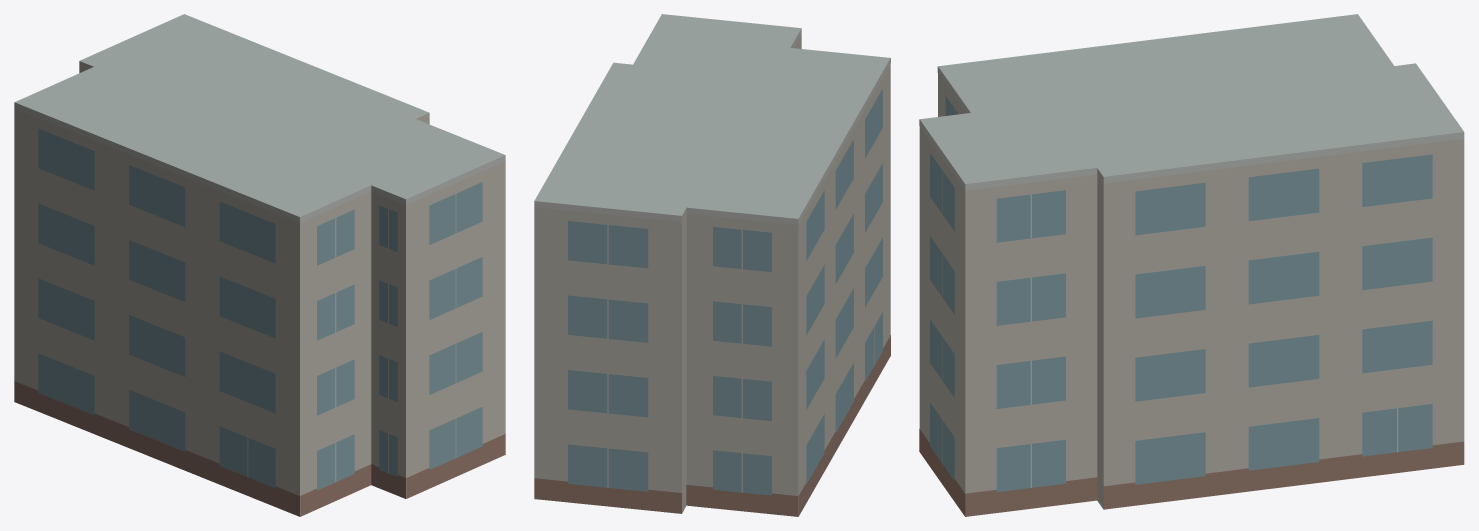
File: survey-upis-32658717.glb
3 renders of one model, left to right at view 1: azimuth 30°, elevation 25°; view 2: azimuth 150°, elevation 25°; view 3: azimuth 270°, elevation 25°, orthographic. The views are drawn at different scales.
Visible parts, largest first — view 1: survey-upis-32658717.tmp; view 2: survey-upis-32658717.tmp; view 3: survey-upis-32658717.tmp.
Boxes of the visible parts, x1,y1,x2,y2 form: survey-upis-32658717.tmp: (14, 14, 505, 516); survey-upis-32658717.tmp: (534, 14, 890, 516); survey-upis-32658717.tmp: (919, 14, 1464, 516).
Bounding box in the file's own units: 13.4 × 12.2 × 18.12.
